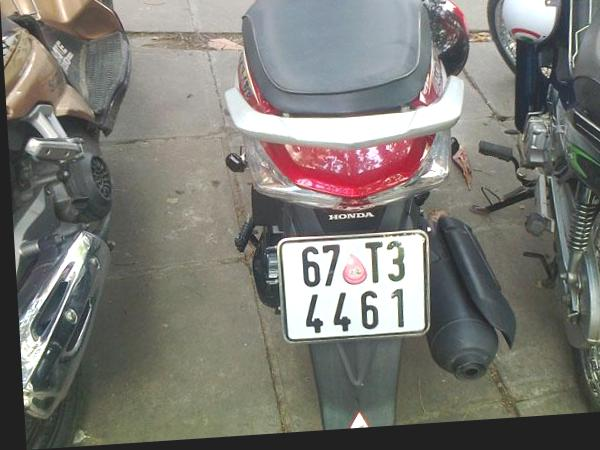License_Plate: (276, 228, 434, 348)
